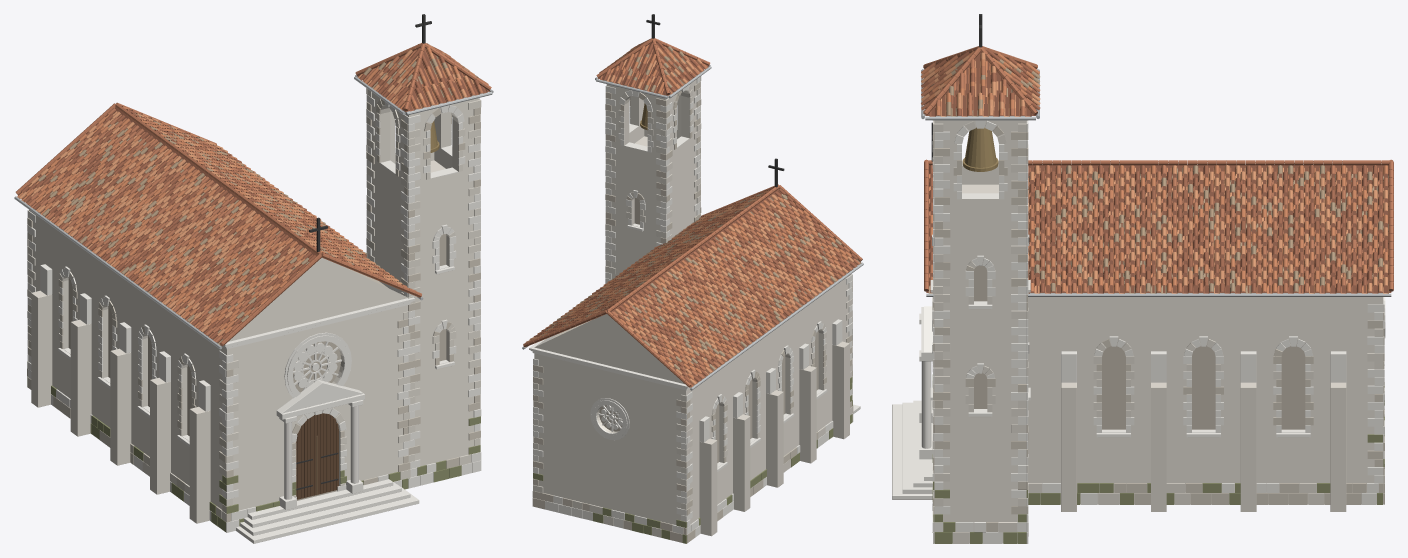
File: Church.fbx
The picture shows the model from 3 angles, left to right: view 1: azimuth 30°, elevation 25°; view 2: azimuth 150°, elevation 25°; view 3: azimuth 270°, elevation 25°; orthographic projection. The views are drawn at different scales.
Visible parts, largest first — view 1: Church; view 2: Church; view 3: Church.
Part boxes in pixels (bbox=[...]): Church: bbox=[14, 14, 493, 543]; Church: bbox=[522, 14, 863, 543]; Church: bbox=[892, 14, 1393, 543].
Bounding box in the file's own units: 13.72 × 21.28 × 19.
